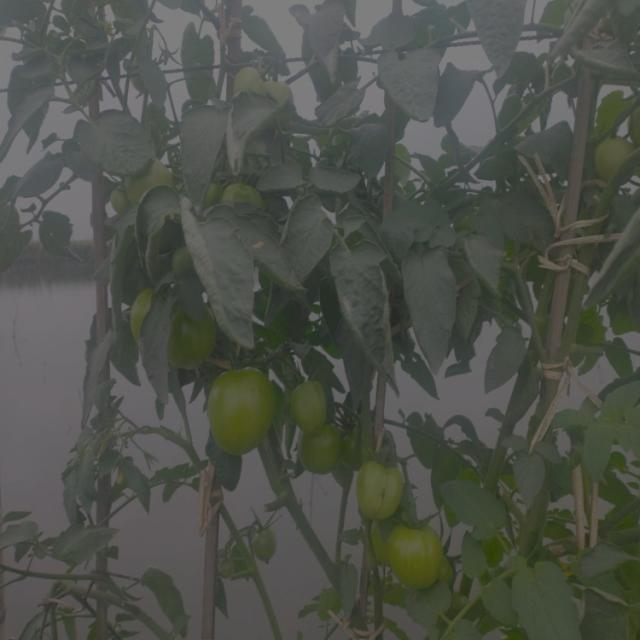tomato: (215, 372, 278, 455), (380, 521, 450, 590), (353, 448, 412, 527), (588, 127, 640, 184), (175, 306, 221, 368), (298, 424, 347, 480), (233, 57, 276, 117), (127, 159, 178, 205), (289, 375, 332, 429), (133, 286, 164, 351), (223, 178, 261, 220), (383, 142, 418, 187), (268, 75, 299, 120), (187, 176, 218, 214), (113, 185, 137, 210), (171, 250, 189, 272)
